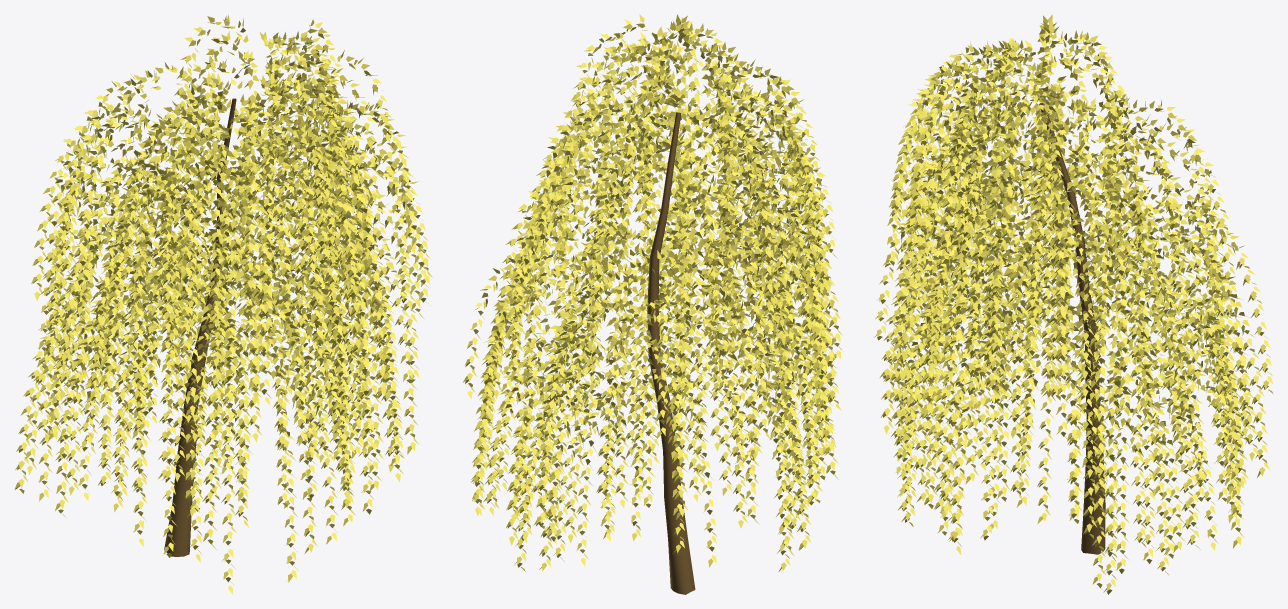
File: arbol.FBX
3 renders of one model, left to right at view 1: azimuth 30°, elevation 25°; view 2: azimuth 150°, elevation 25°; view 3: azimuth 270°, elevation 25°, orthographic. The views are drawn at different scales.
Visible parts, largest first — view 1: Foliage001; view 2: Foliage001; view 3: Foliage001.
Boxes of the visible parts, box(x1,y1,x2,y2) form: Foliage001: box(14, 14, 432, 594); Foliage001: box(463, 14, 843, 594); Foliage001: box(874, 14, 1273, 594).
Bounding box in the file's own units: 297 × 440 × 298.
